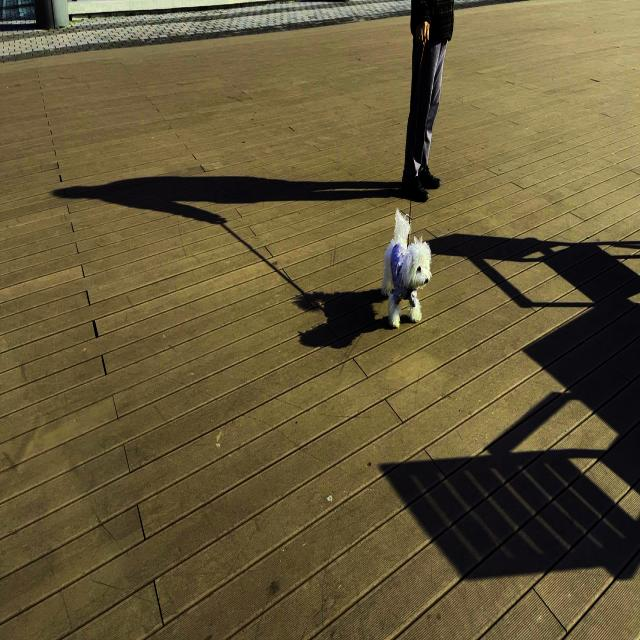Leashed_Dog: (381, 0, 433, 328)
